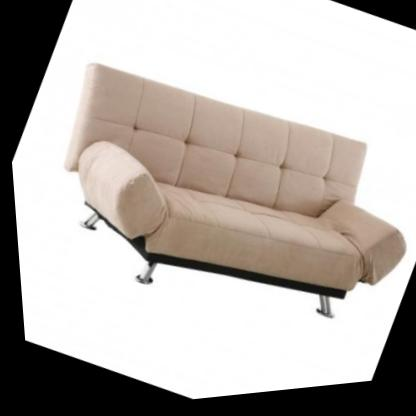Sofa: (6, 22, 416, 394)
